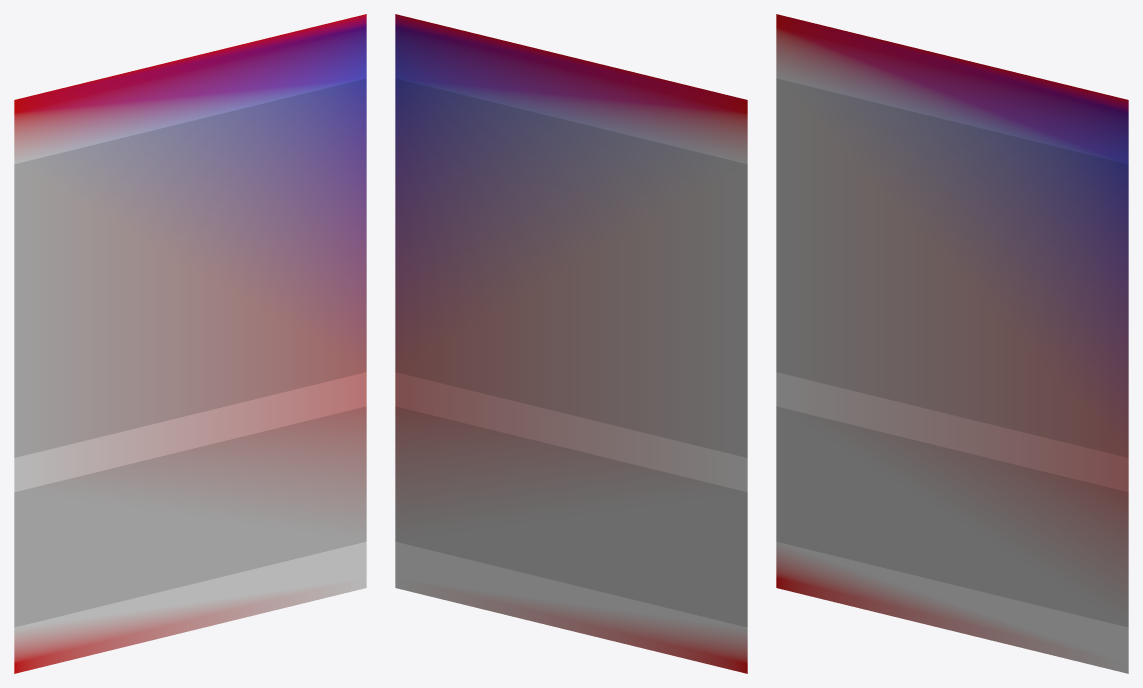
The picture shows the model from 3 angles, left to right: view 1: azimuth 30°, elevation 25°; view 2: azimuth 150°, elevation 25°; view 3: azimuth 330°, elevation 25°; orthographic projection.
Parts seen in each view (by area): view 1: SM_Bathroom_Wall_01_LOD0; view 2: SM_Bathroom_Wall_01_LOD0; view 3: SM_Bathroom_Wall_01_LOD0.
Part boxes in pixels (x1,y1,x2,y2): SM_Bathroom_Wall_01_LOD0: (14,14,366,673); SM_Bathroom_Wall_01_LOD0: (395,14,747,673); SM_Bathroom_Wall_01_LOD0: (776,14,1128,673).
Size of the model in its own units: 225 by 2.68e-05 by 350.
